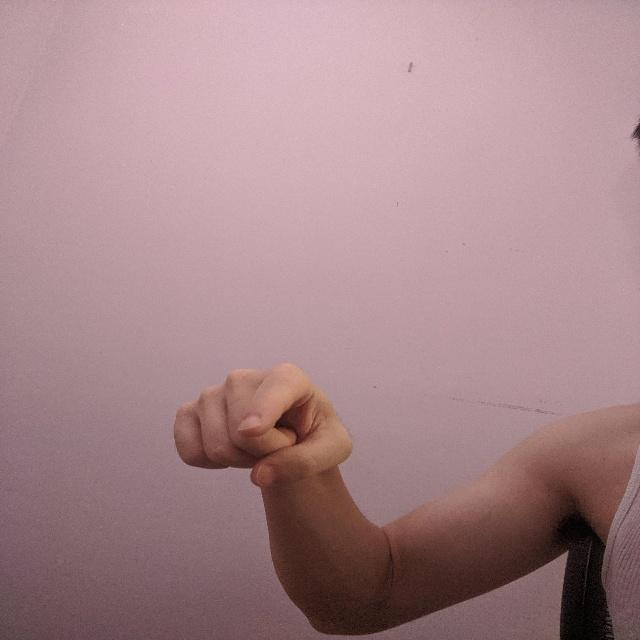Z: (167, 359, 362, 491)
